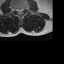CCS_normal: (19, 6, 21, 15)
LFS_normal: (22, 5, 24, 12)
LLS_normal: (20, 6, 22, 14)
RFS_normal: (15, 6, 17, 13)
RLS_normal: (17, 6, 19, 14)
